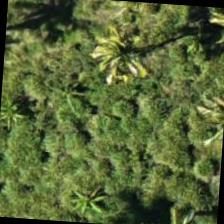Kelapa_Sawit: (74, 12, 170, 108), (2, 0, 56, 76)
